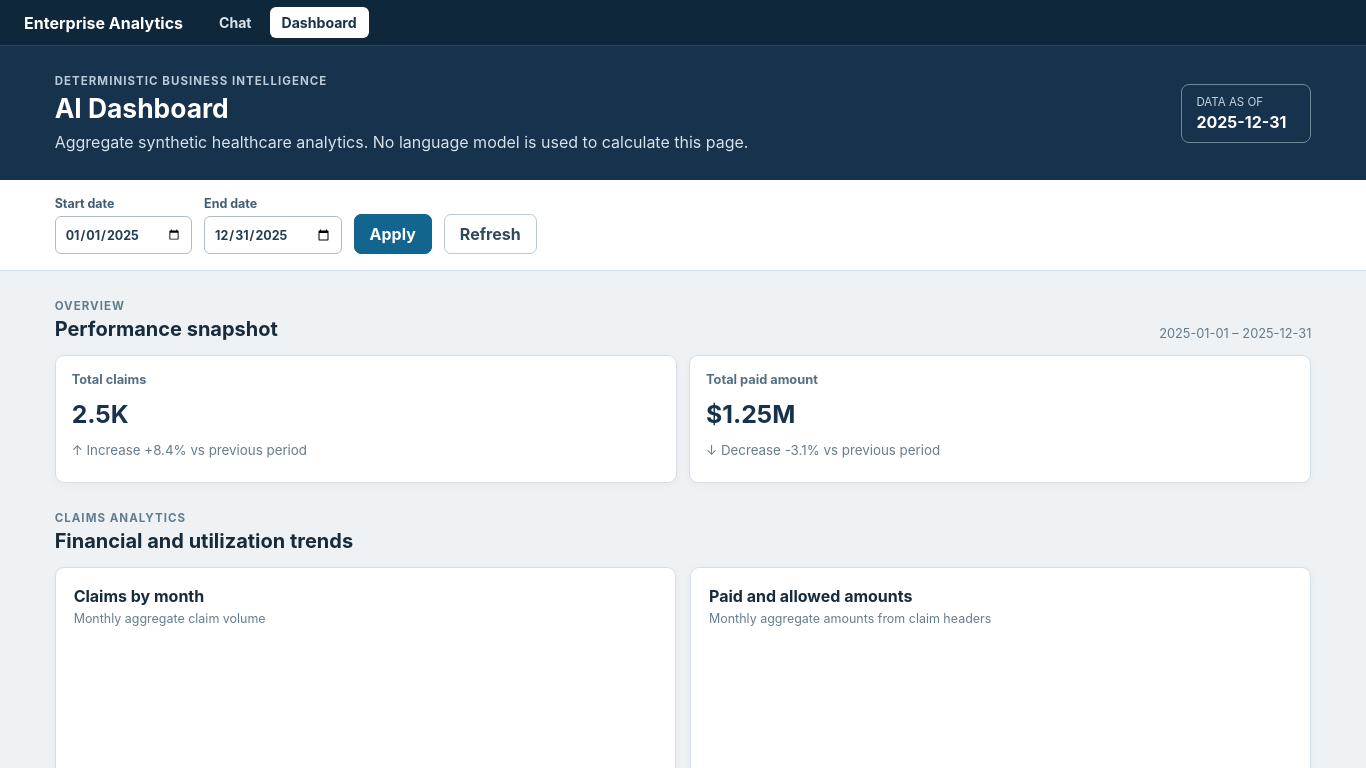
Test: AI Dashboard › date filters are validated locally and applied to all dashboard sections
expect the text "Total claims" is shown: met, box [72,372,146,387]
Type "2025-03-01" into the date field labelled "Start date". click: (123, 235)
box: [55,216,192,254]
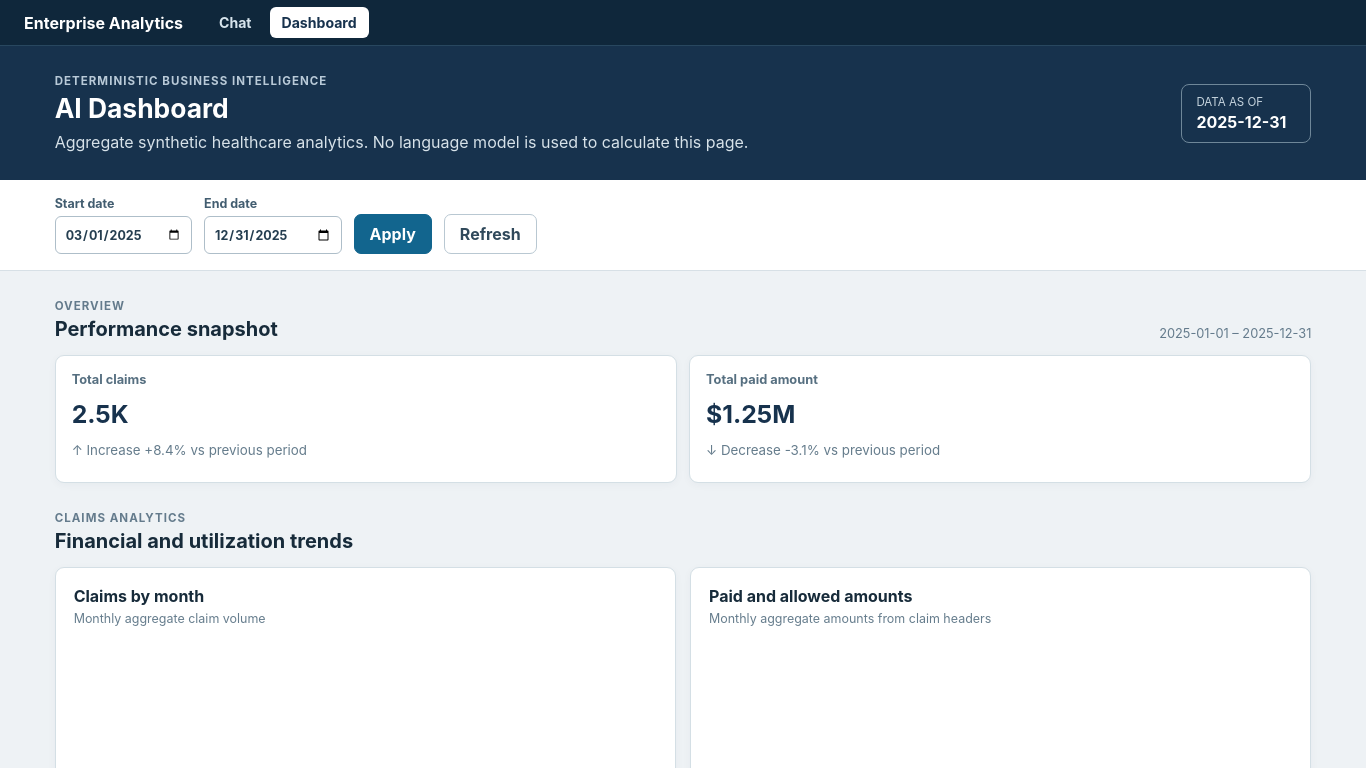
Type "2025-06-30" into the date field labelled "End date". click: (273, 235)
box: [204,216,342,254]
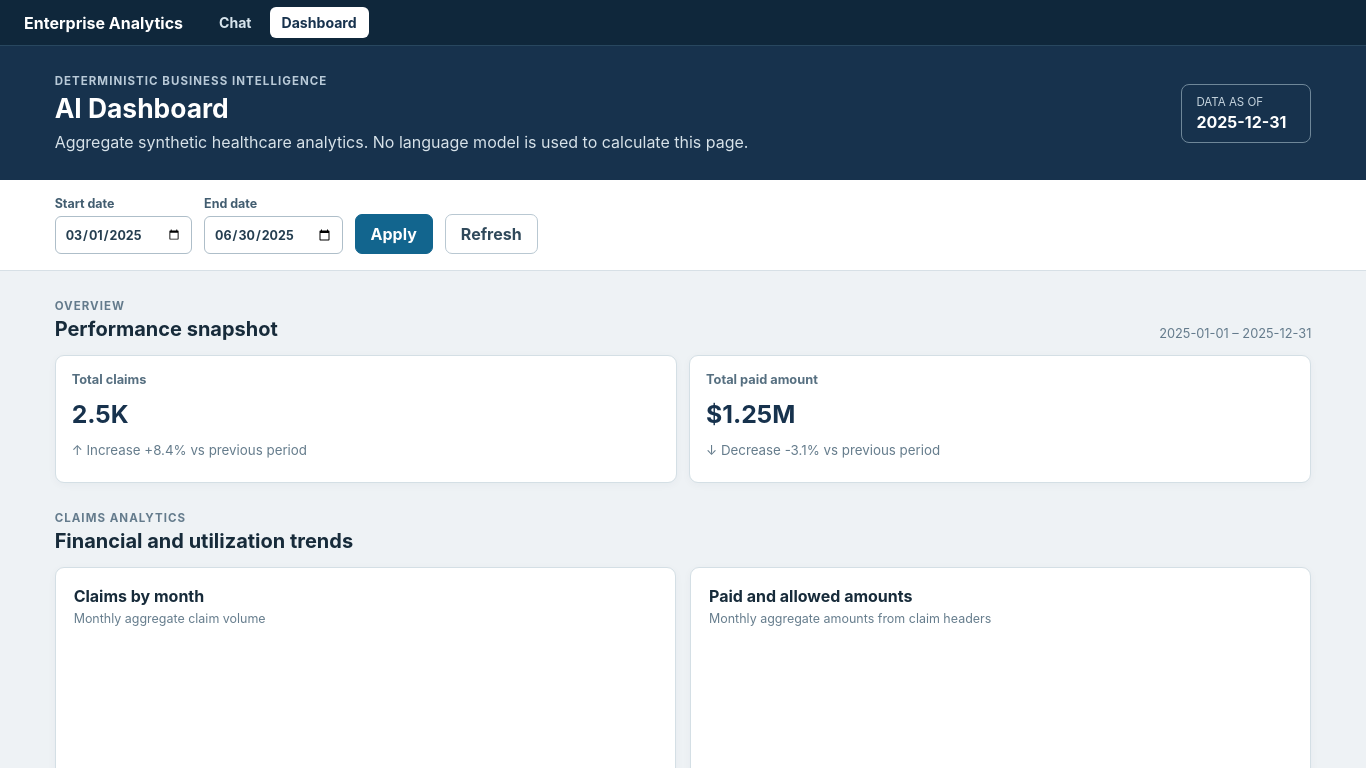
Click the button "Apply". click: (394, 234)
box: [355,214,433,254]
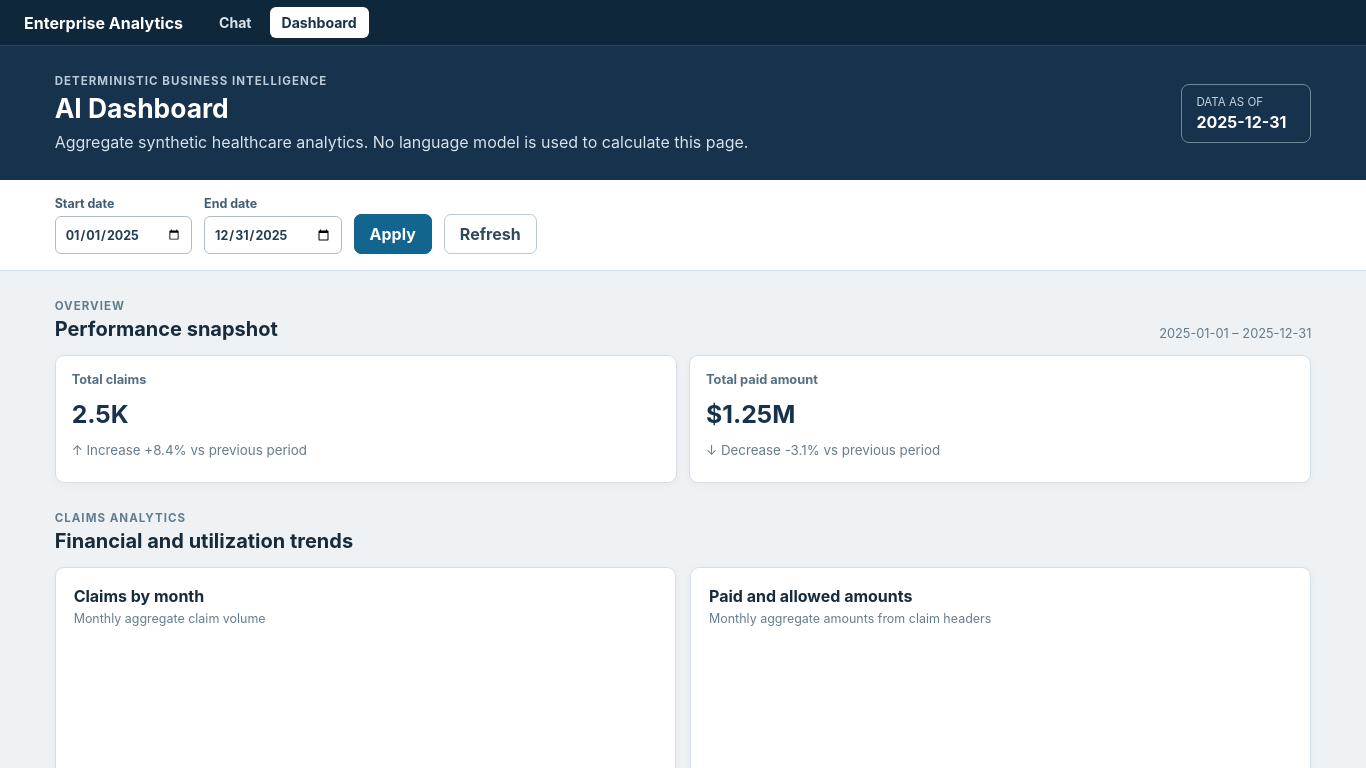
Type "2025-09-01" into the date field labelled "Start date". click: (123, 235)
box: [55,216,192,254]
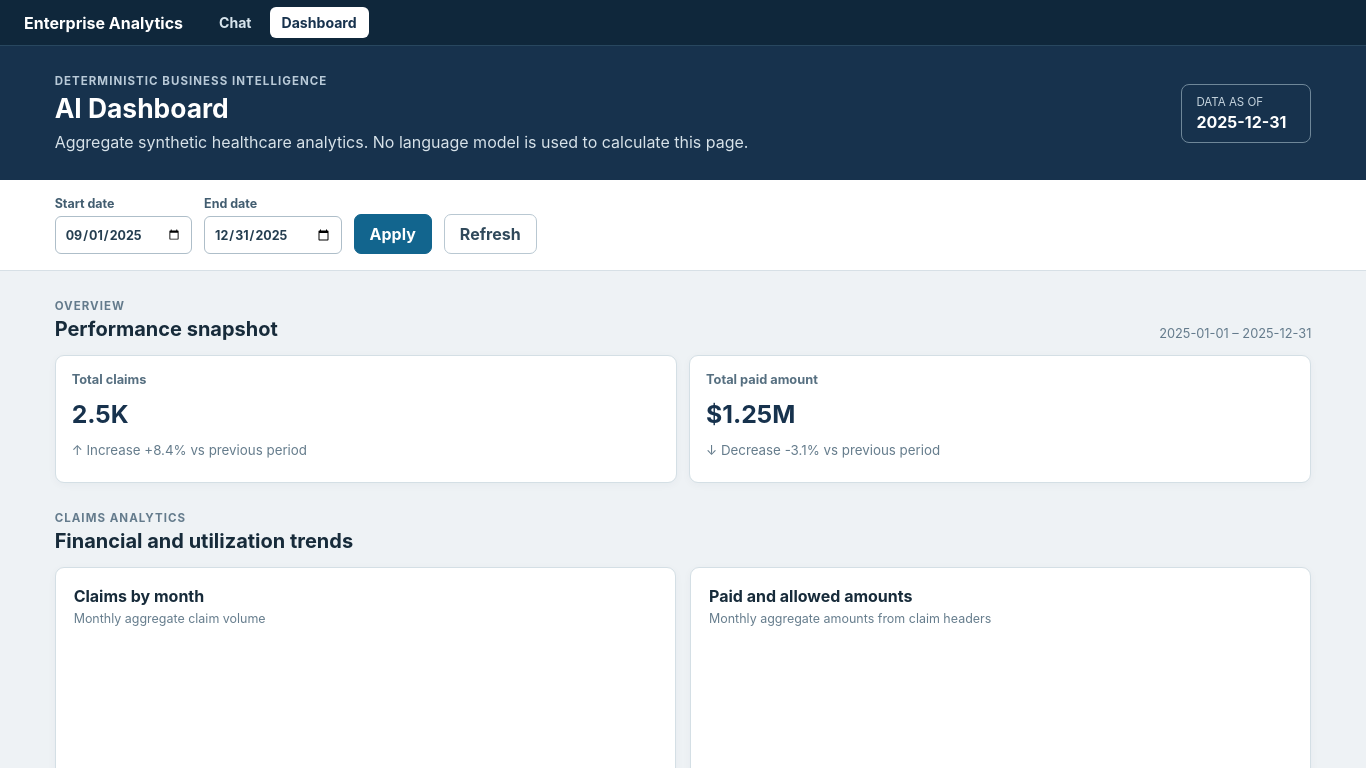
Type "2025-06-01" into the date field labelled "End date". click: (273, 235)
box: [204,216,342,254]
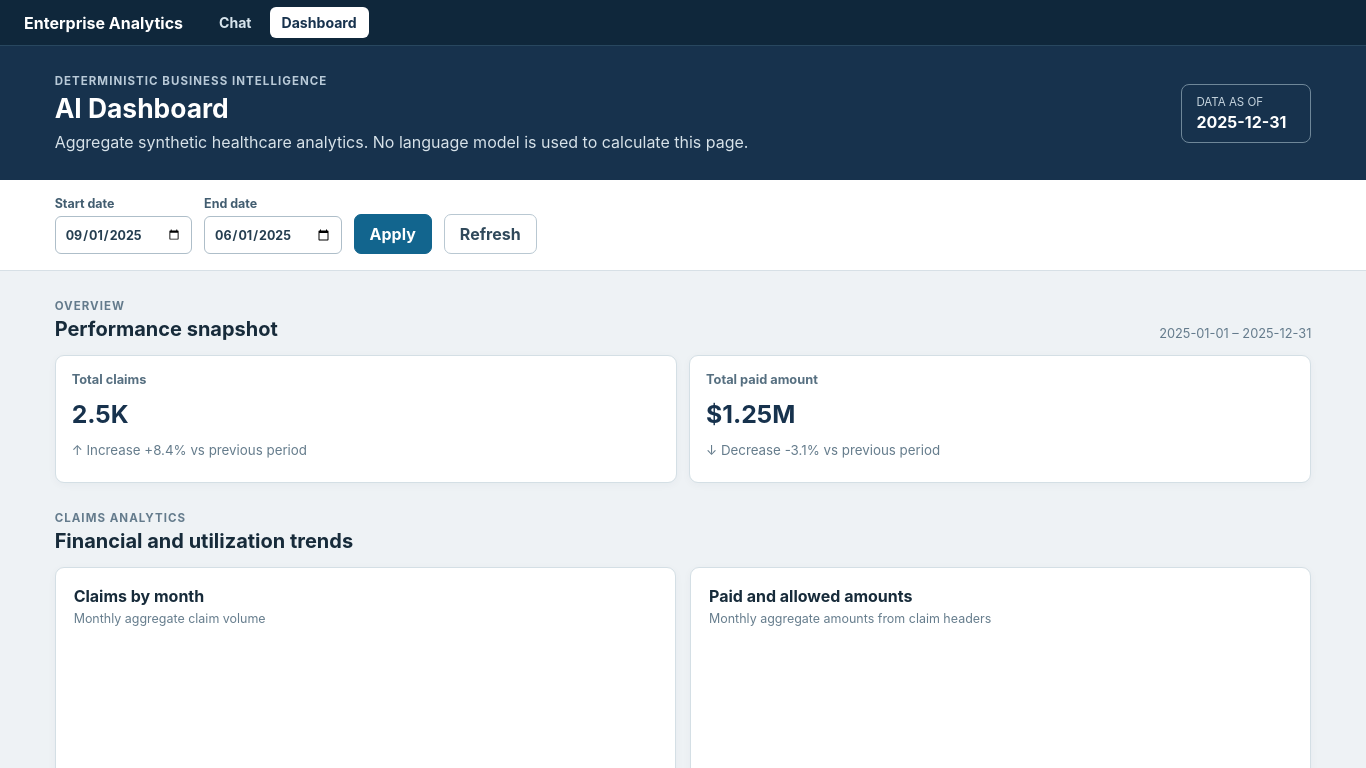
Click the button "Apply". click: (393, 234)
box: [354,214,432,254]
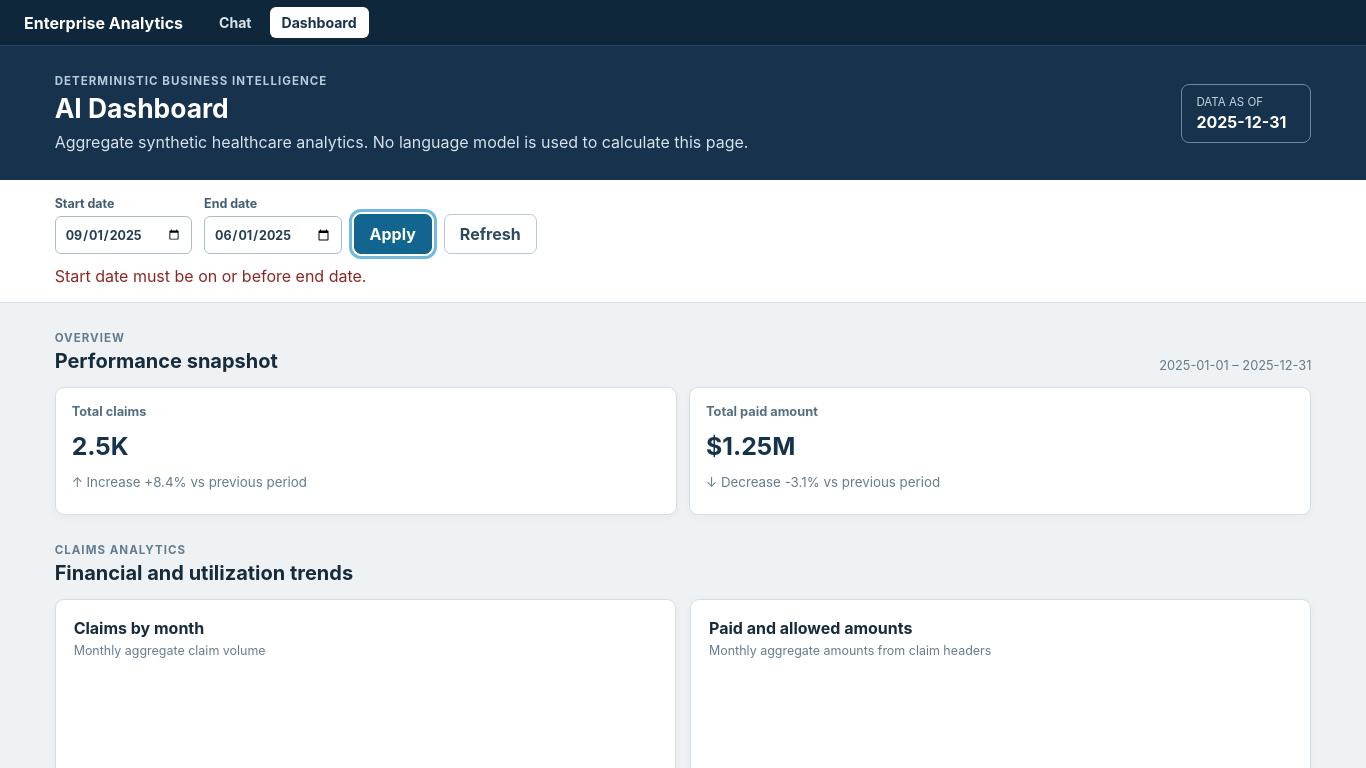
expect the message shows "Start date must be on or before end date": met, box [55,266,366,286]
